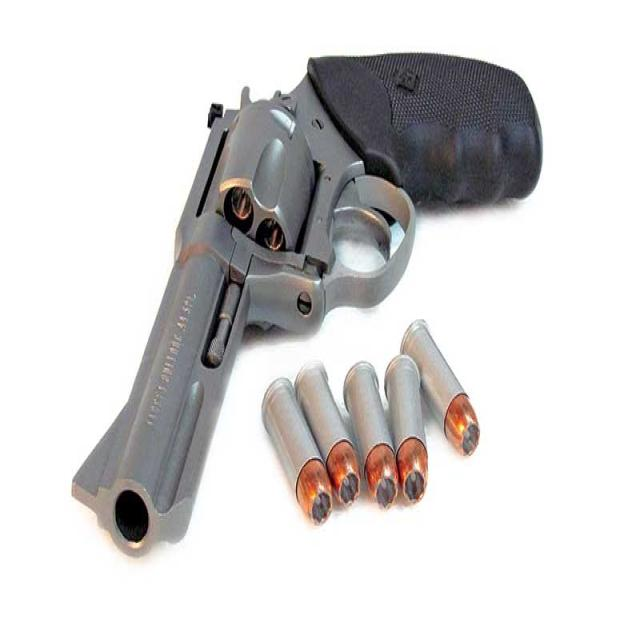Gun: (71, 47, 553, 556)
